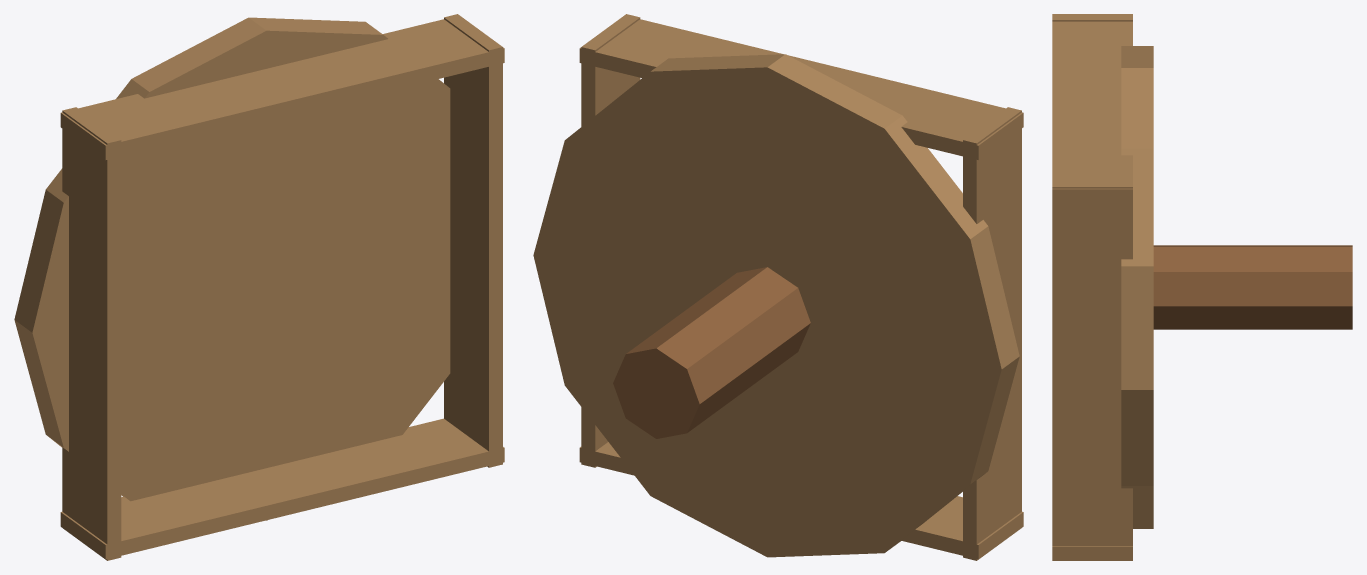
Rendered from treetop_safe_platform.glb.
The picture shows the model from 3 angles, left to right: view 1: azimuth 30°, elevation 25°; view 2: azimuth 150°, elevation 25°; view 3: azimuth 270°, elevation 25°; orthographic projection. The views are drawn at different scales.
Visible parts, largest first — view 1: platform, railW, railN, railE, railS; view 2: platform, support, railW, railN, railS, railE; view 3: railE, support, platform, railN, railS, railW.
Part boxes in pixels (left/top/right/bottom): platform: left=14, top=17, right=450, bottom=520; railW: left=62, top=107, right=121, bottom=560; railN: left=60, top=19, right=504, bottom=159; railE: left=444, top=14, right=502, bottom=467; railS: left=60, top=418, right=504, bottom=559; platform: left=533, top=54, right=1019, bottom=557; support: left=613, top=267, right=810, bottom=438; railW: left=963, top=107, right=1021, bottom=560; railN: left=579, top=19, right=1023, bottom=159; railS: left=579, top=442, right=1023, bottom=559; railE: left=581, top=14, right=640, bottom=467; railE: left=1052, top=181, right=1132, bottom=560; support: left=1153, top=245, right=1352, bottom=329; platform: left=1121, top=46, right=1153, bottom=528; railN: left=1052, top=21, right=1132, bottom=202; railS: left=1052, top=546, right=1132, bottom=559; railW: left=1052, top=14, right=1132, bottom=21.
Bounding box in the file's own units: 2.7 × 2.7 × 1.67.
